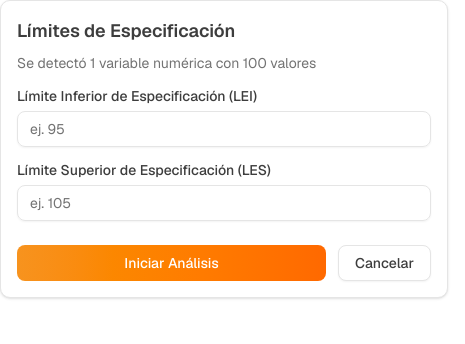
Test: SpecLimitsForm › numeric validation › displays non-numeric error for LEI field
Step 1. Type "abc" into the field labelled "Límite Inferior de Especificación (LEI)" → coordinates (224, 129), box [17,111,431,147]
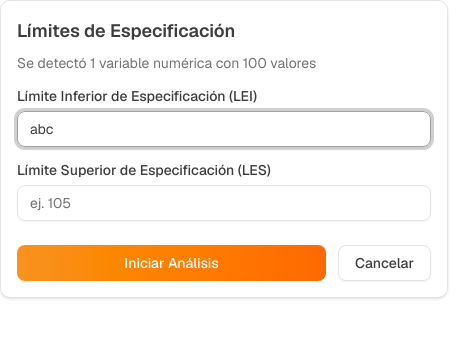
Step 2. Type "105" into the field labelled "Límite Superior de Especificación (LES)" → coordinates (224, 203), box [17,185,431,221]
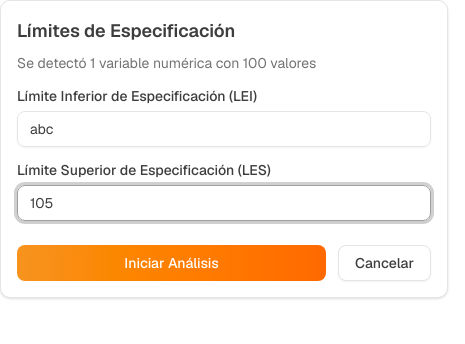
Step 3. Click the button "Iniciar Análisis" → coordinates (172, 263), box [17,245,326,281]
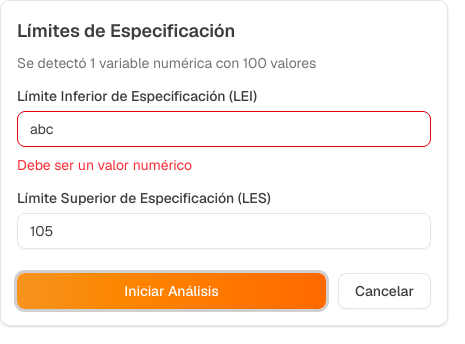
Expected: the text "Debe ser un valor numérico" is shown, [17,156,192,174]
